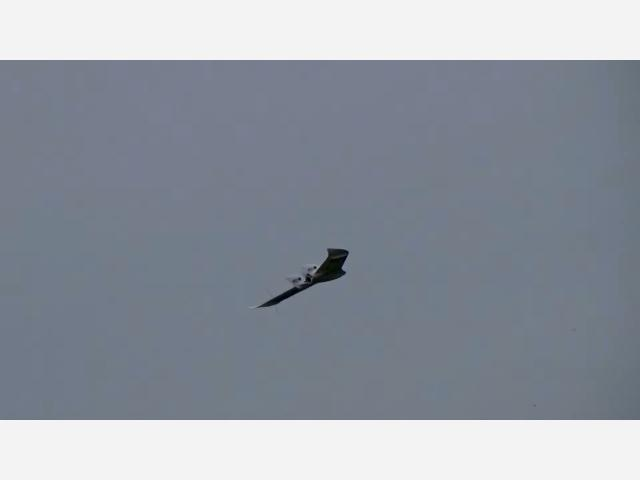Anti-Drone: (246, 248, 350, 310)
